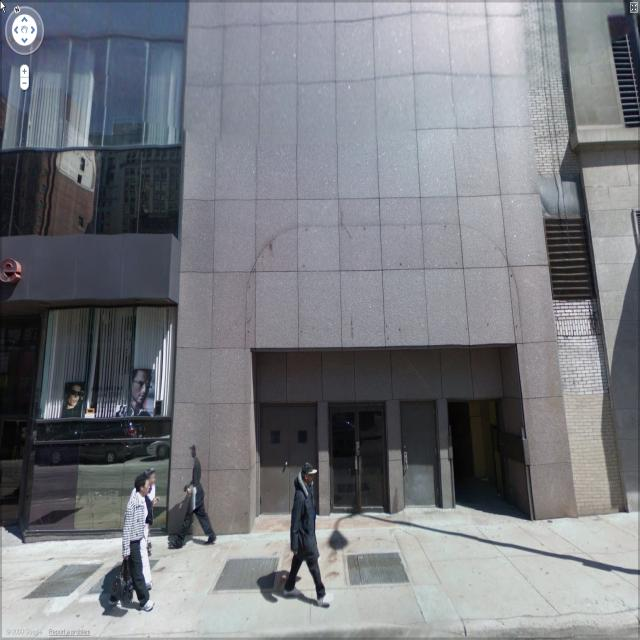b_1: (185, 7, 582, 519), (1, 8, 185, 500), (572, 0, 640, 462)
